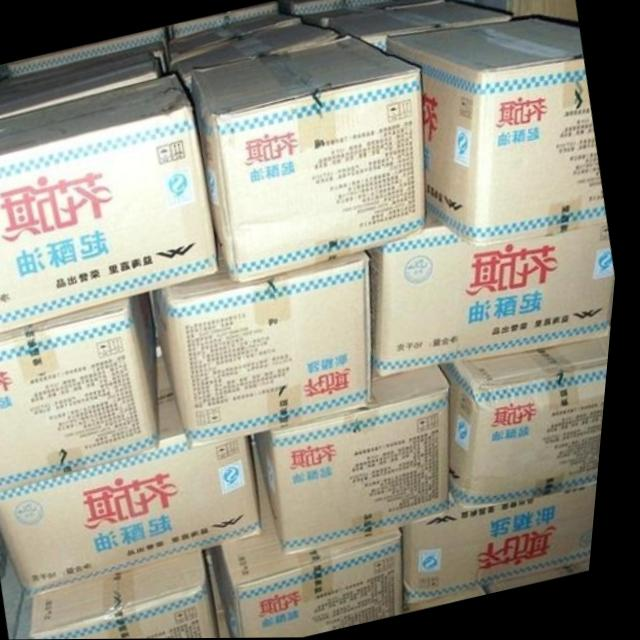box: (0, 356, 271, 598), (193, 35, 430, 284), (0, 74, 223, 333), (388, 18, 611, 247), (158, 235, 378, 448), (369, 211, 620, 376), (219, 435, 415, 638), (263, 365, 458, 556), (0, 292, 167, 493), (446, 325, 617, 510), (410, 484, 606, 602), (41, 550, 230, 639), (170, 24, 340, 93), (0, 52, 163, 119), (328, 1, 512, 54), (9, 26, 170, 77), (0, 41, 167, 90), (170, 11, 303, 61), (170, 0, 278, 40), (303, 0, 445, 30), (506, 0, 580, 29), (277, 0, 386, 16)
